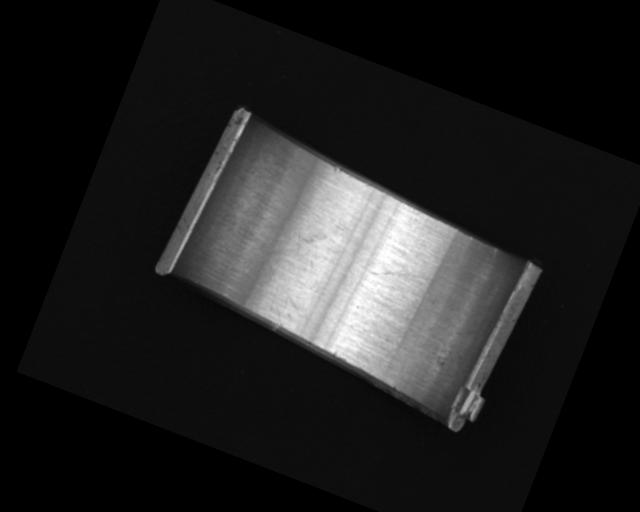blot: (270, 216, 330, 272)
bruise: (331, 164, 341, 174)
nick: (490, 246, 500, 260)
